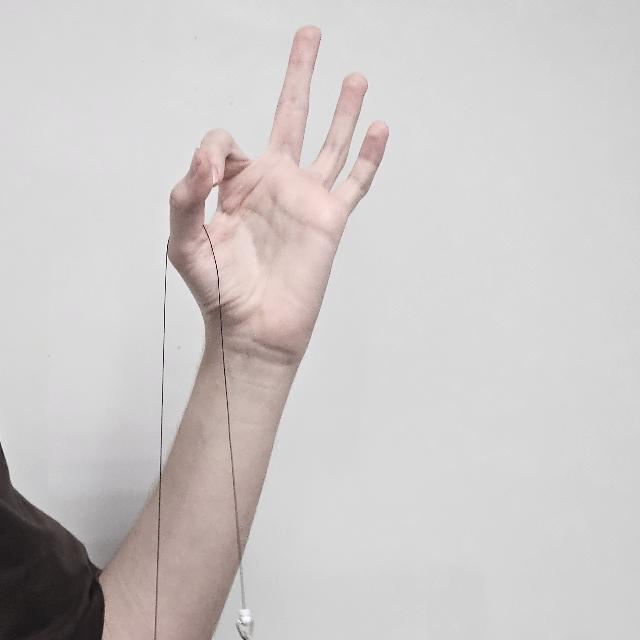Bolinha: (170, 26, 388, 364)
